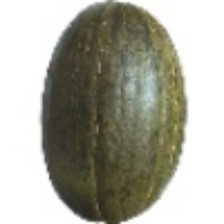honeydew: (31, 6, 179, 206)
